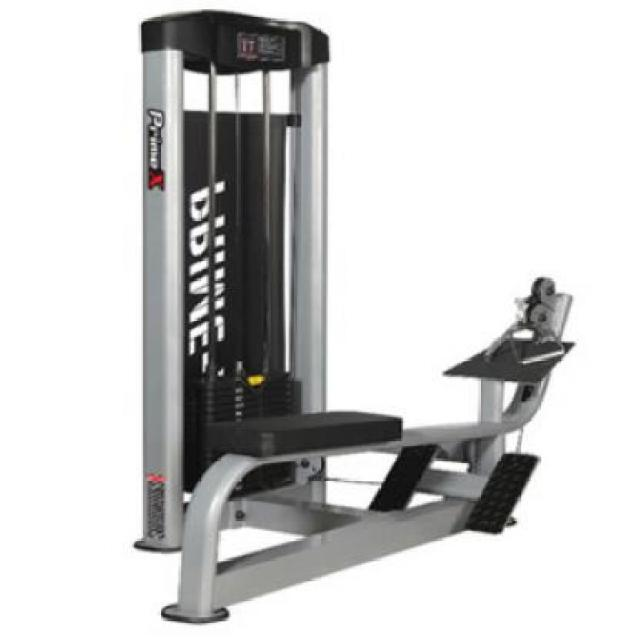Seated Cable Rows: (118, 3, 577, 640)
